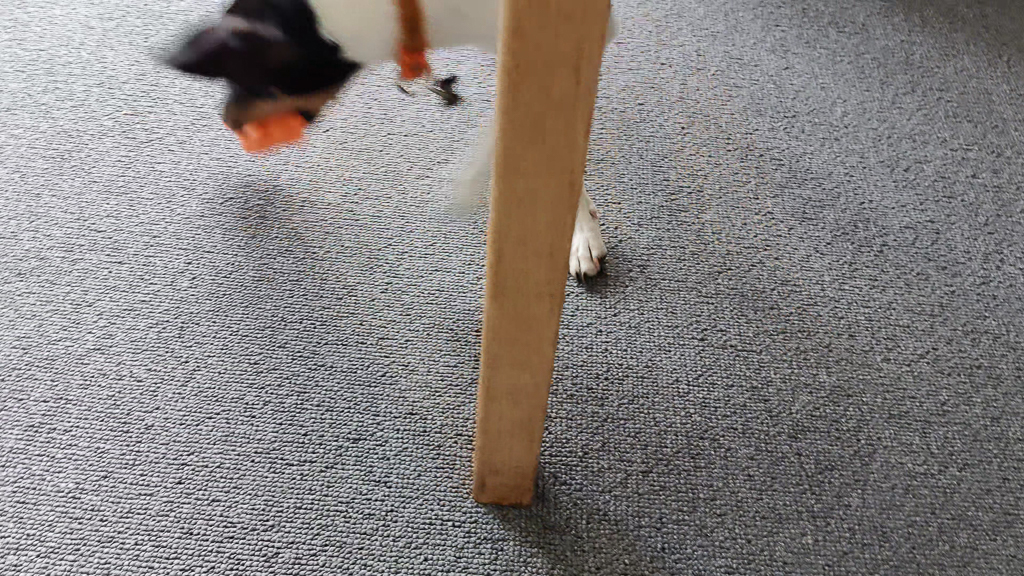Dog: (135, 0, 634, 298)
